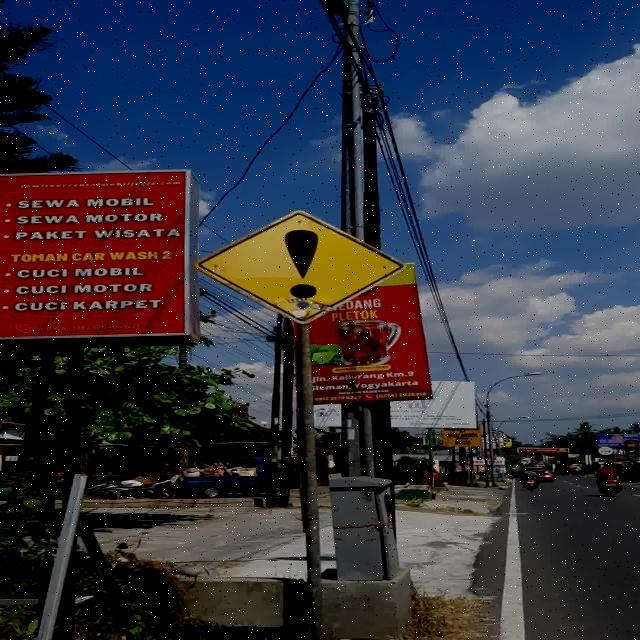Hati-Hati: (194, 210, 405, 324)
